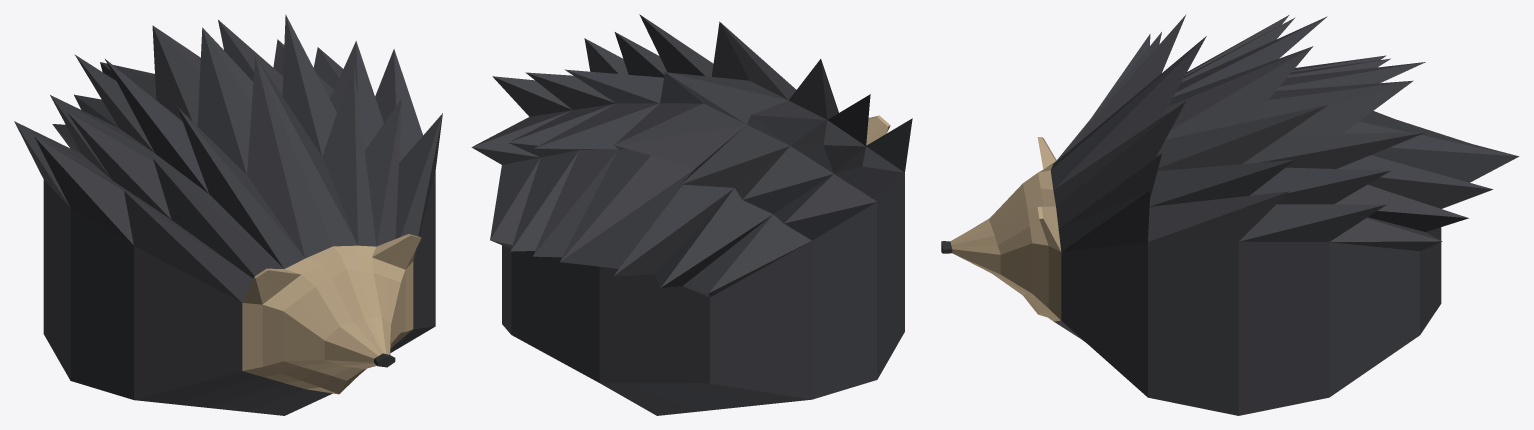
Rendered from Hedgehog.fbx.
The picture shows the model from 3 angles, left to right: view 1: azimuth 30°, elevation 25°; view 2: azimuth 150°, elevation 25°; view 3: azimuth 270°, elevation 25°; orthographic projection. The views are drawn at different scales.
Parts seen in each view (by area): view 1: Cube.006; view 2: Cube.006; view 3: Cube.006.
Boxes of the visible parts, x1=… form: Cube.006: x1=14, y1=14, x2=442, y2=415; Cube.006: x1=471, y1=14, x2=912, y2=415; Cube.006: x1=941, y1=14, x2=1519, y2=415.
Size of the model in its own units: 114 by 106 by 158.
